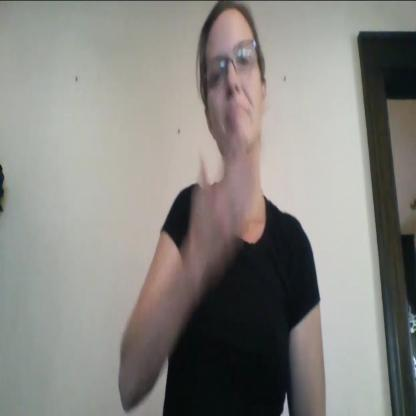ThankYou: (181, 2, 296, 296)
